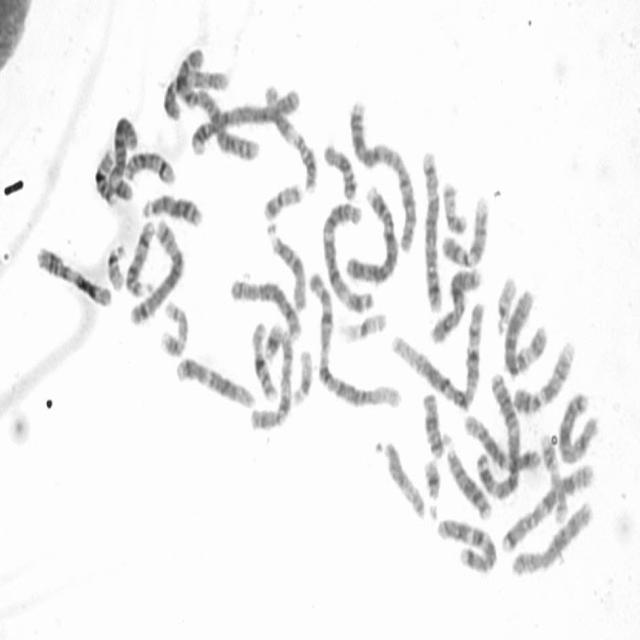A1: (305, 264, 405, 412), (388, 295, 487, 411)
A2: (346, 93, 420, 254), (172, 40, 261, 163)
A3: (318, 194, 376, 314), (472, 366, 523, 502)
B4: (188, 80, 304, 157), (344, 180, 401, 284)
B5: (126, 212, 187, 326), (418, 143, 446, 313)
C10: (246, 323, 296, 432), (162, 60, 232, 121)
C11: (261, 77, 321, 194), (33, 238, 115, 310)
C12: (460, 407, 542, 474), (172, 350, 258, 411)
C6: (500, 280, 550, 378), (106, 108, 140, 204)
C7: (498, 458, 598, 555), (433, 511, 499, 575)
C8: (507, 494, 596, 580), (226, 272, 304, 342)
C9: (510, 332, 578, 415), (440, 189, 492, 268)
D13: (442, 434, 494, 522), (139, 186, 204, 229)
D14: (123, 214, 157, 299), (120, 143, 178, 187)
D15: (376, 434, 428, 522), (264, 215, 310, 314)
E16: (248, 314, 279, 402), (91, 140, 119, 208)
E17: (537, 428, 570, 526), (157, 295, 190, 358)
E18: (320, 136, 360, 201), (418, 386, 446, 459)
F19: (338, 303, 390, 347), (290, 341, 315, 408)
F20: (261, 175, 305, 221), (439, 175, 469, 236)
G21: (420, 452, 443, 503), (261, 315, 284, 363)
G22: (492, 268, 519, 335), (104, 236, 128, 294)
X: (427, 260, 484, 346), (556, 386, 602, 466)
